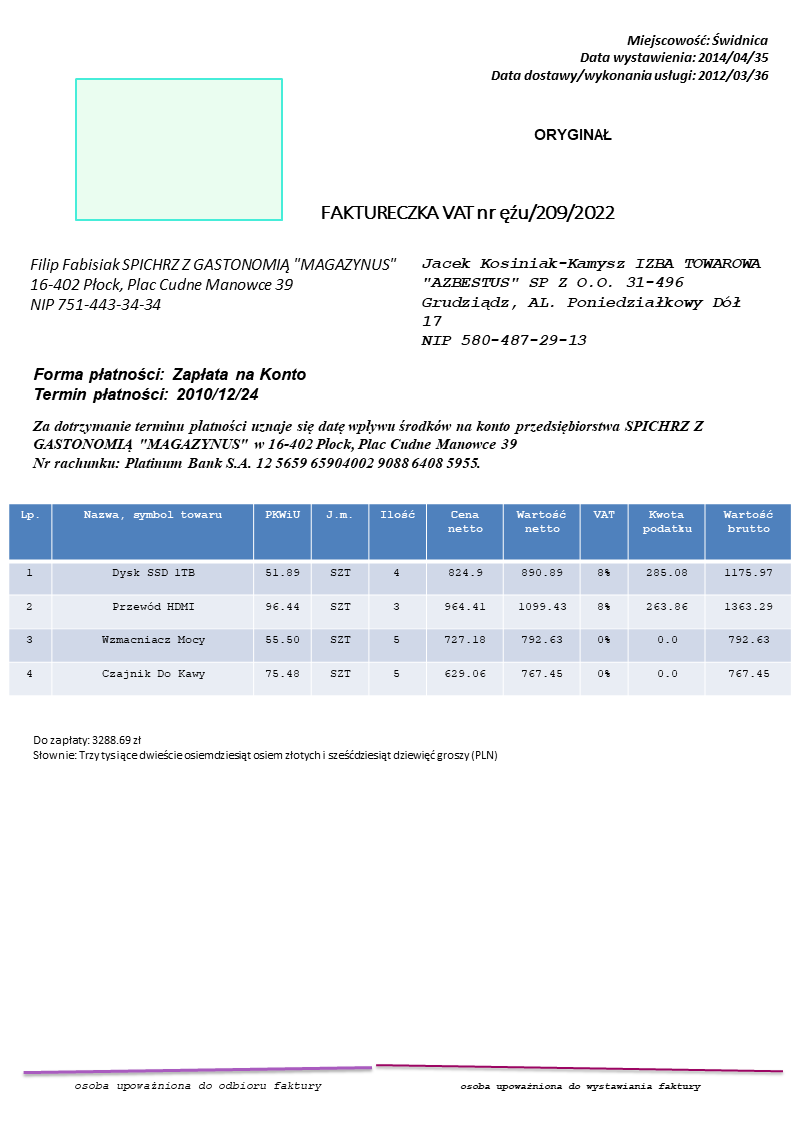Table: (7, 504, 792, 698)
TextBox: (29, 416, 707, 473), (416, 255, 765, 350), (26, 251, 397, 314), (31, 732, 501, 766), (488, 29, 769, 85), (31, 364, 310, 404), (318, 201, 618, 227), (72, 1078, 324, 1093), (457, 1079, 703, 1094), (532, 124, 613, 144)
